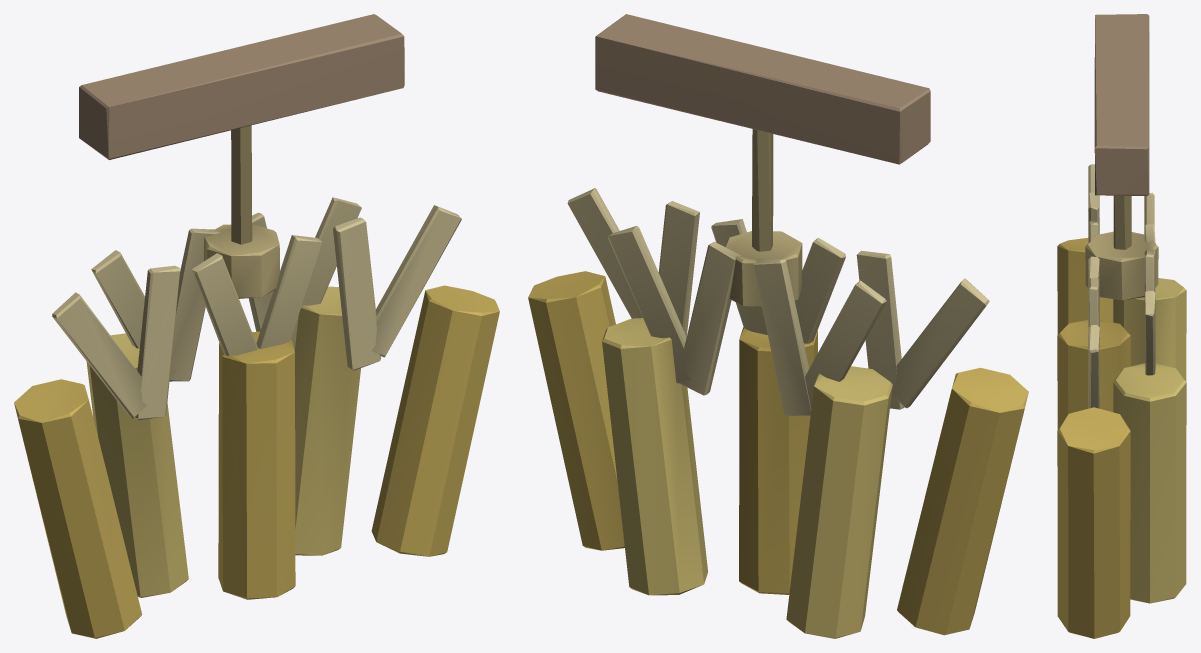
File: harvest_corn_string_low.glb
3 views of the same model, side by side, from view 1: azimuth 30°, elevation 25°; view 2: azimuth 150°, elevation 25°; view 3: azimuth 270°, elevation 25° (orthographic). The views are drawn at different scales.
Bounding box in the file's own units: 0.5449 × 0.5638 × 0.1386.
